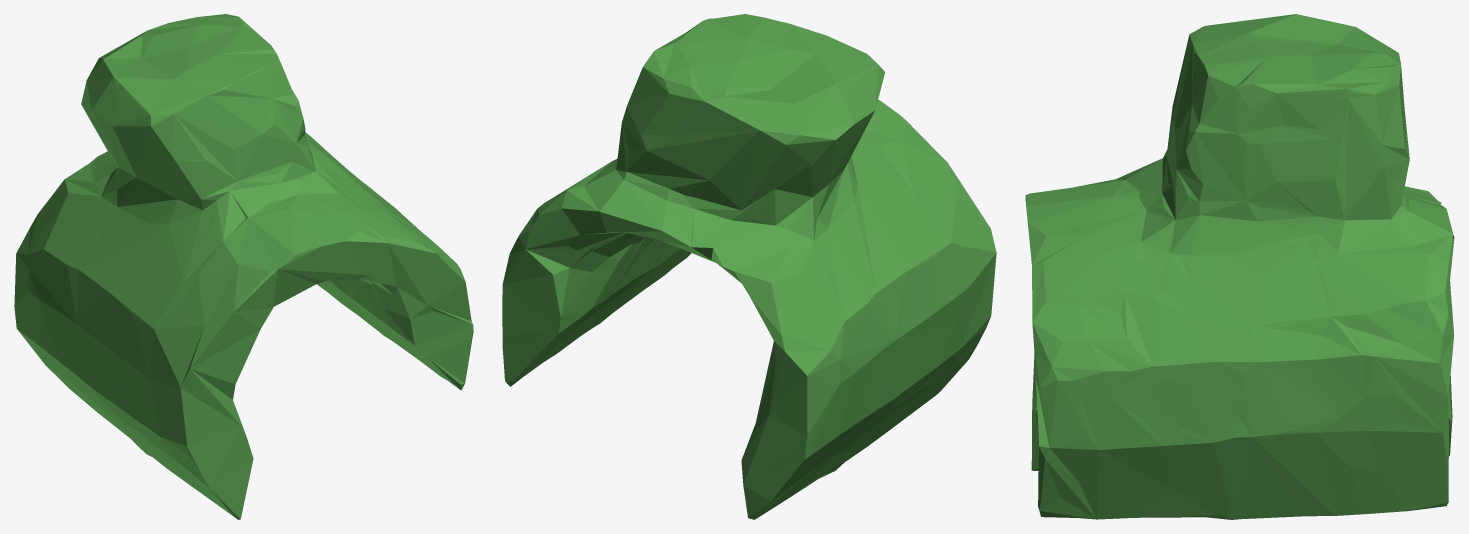
Rendered from figurine-4.glb.
3 renders of one model, left to right at view 1: azimuth 30°, elevation 25°; view 2: azimuth 150°, elevation 25°; view 3: azimuth 270°, elevation 25°, orthographic. The views are drawn at different scales.
Parts seen in each view (by area): view 1: part_04; view 2: part_04; view 3: part_04.
Part boxes in pixels (x1=…): part_04: x1=14, y1=14, x2=473, y2=519; part_04: x1=502, y1=14, x2=996, y2=519; part_04: x1=1025, y1=14, x2=1454, y2=519.
Bounding box in the file's own units: 0.1098 × 0.1309 × 0.1102.
